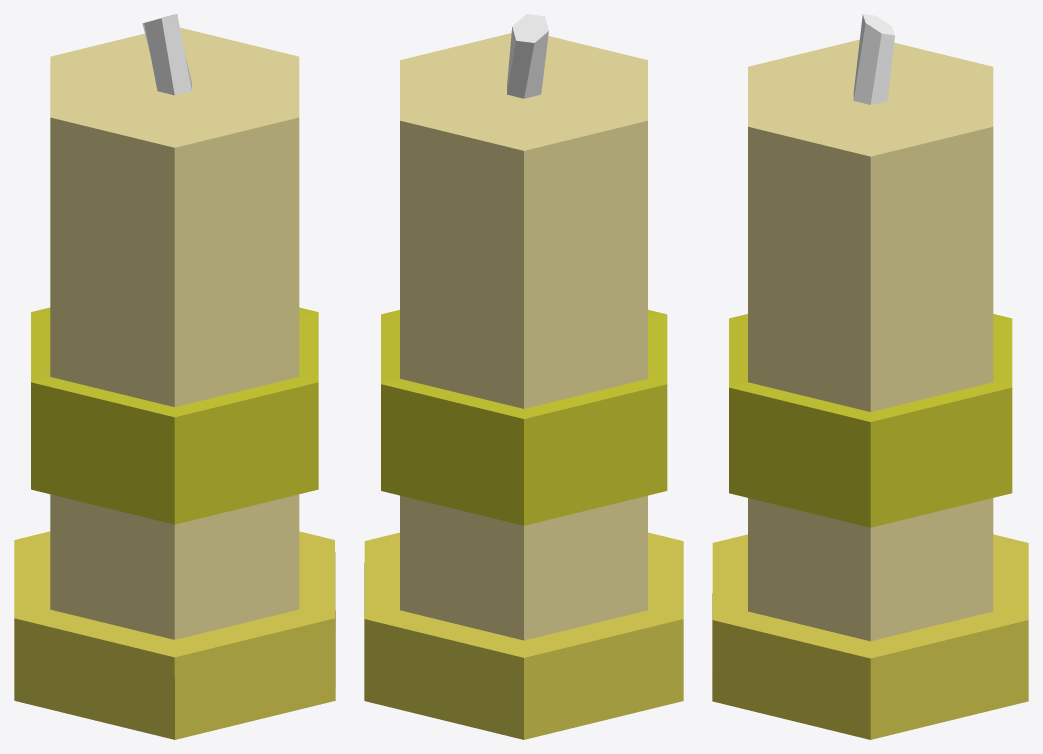
File: Model_swiecznik_3.fbx
3 views of the same model, side by side, from view 1: azimuth 30°, elevation 25°; view 2: azimuth 150°, elevation 25°; view 3: azimuth 270°, elevation 25° (orthographic).
Parts seen in each view (by area): view 1: Mesh_swiecznik_3; view 2: Mesh_swiecznik_3; view 3: Mesh_swiecznik_3.
Part boxes in pixels (x1=…): Mesh_swiecznik_3: x1=14, y1=14, x2=335, y2=739; Mesh_swiecznik_3: x1=364, y1=14, x2=683, y2=739; Mesh_swiecznik_3: x1=712, y1=14, x2=1028, y2=739.
Bounding box in the file's own units: 19.67 × 43.96 × 22.71.
